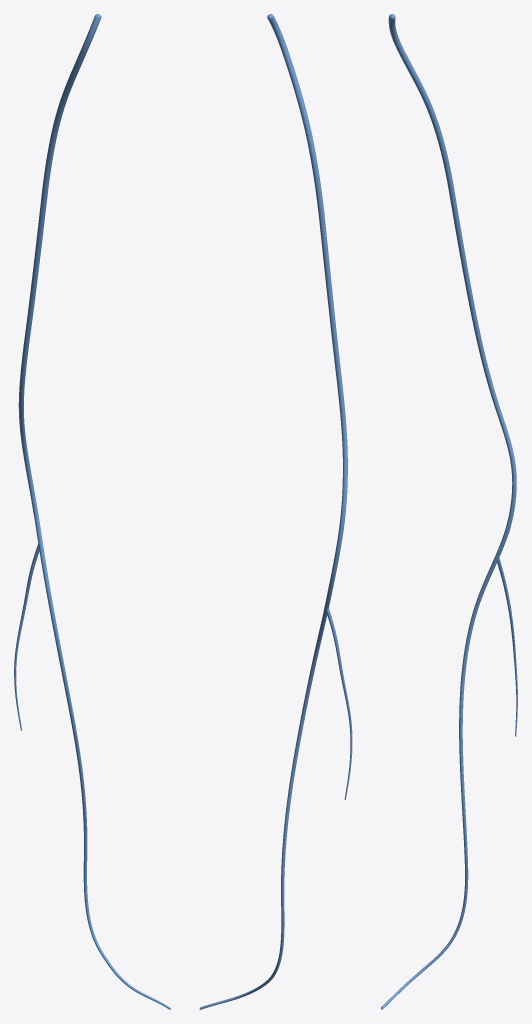
3 renders of one model, left to right at view 1: azimuth 30°, elevation 25°; view 2: azimuth 210°, elevation 25°; view 3: azimuth 270°, elevation 25°, orthographic. The views are drawn at different scales.
Visible parts, largest first — view 1: BP5871_left_great_saphenous_vein; view 2: BP5871_left_great_saphenous_vein; view 3: BP5871_left_great_saphenous_vein.
Boxes of the visible parts, x1=… form: BP5871_left_great_saphenous_vein: x1=14, y1=14, x2=170, y2=1009; BP5871_left_great_saphenous_vein: x1=199, y1=14, x2=352, y2=1009; BP5871_left_great_saphenous_vein: x1=381, y1=14, x2=517, y2=1009.
Bounding box in the file's own units: 0.0815 × 0.8222 × 0.1059.
